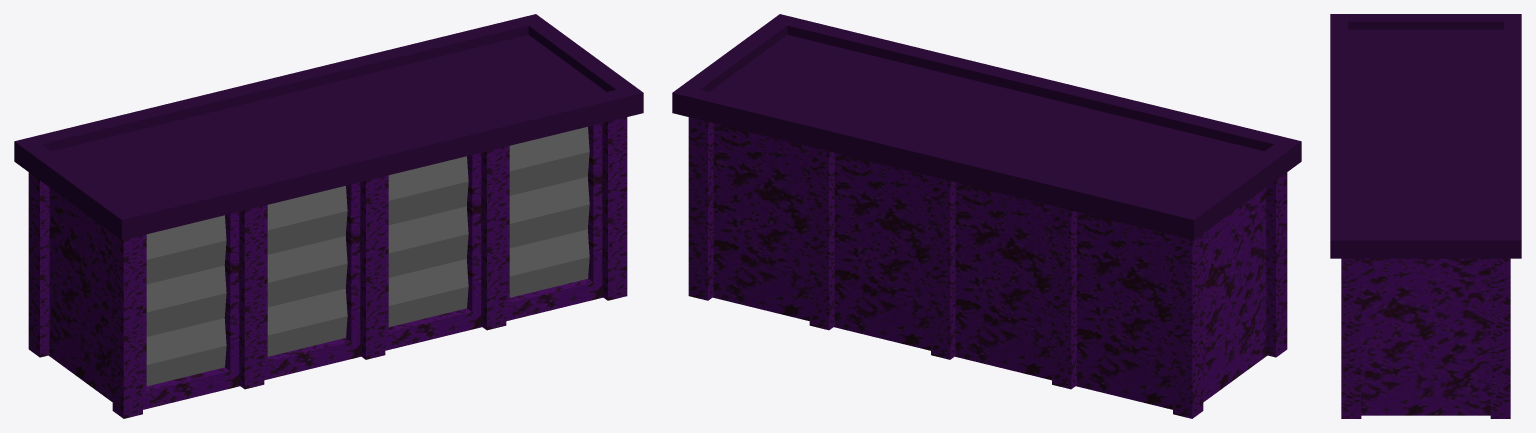
File: Garage.fbx
3 renders of one model, left to right at view 1: azimuth 30°, elevation 25°; view 2: azimuth 150°, elevation 25°; view 3: azimuth 270°, elevation 25°, orthographic. The views are drawn at different scales.
Parts seen in each view (by area): view 1: Cube.048; view 2: Cube.048; view 3: Cube.048.
Boxes of the visible parts, x1,y1,x2,y2 form: Cube.048: (14, 14, 643, 418); Cube.048: (672, 14, 1301, 418); Cube.048: (1330, 14, 1521, 418).
Bounding box in the file's own units: 1827 × 691 × 653.
Materials: 3 (1 with a texture image).
